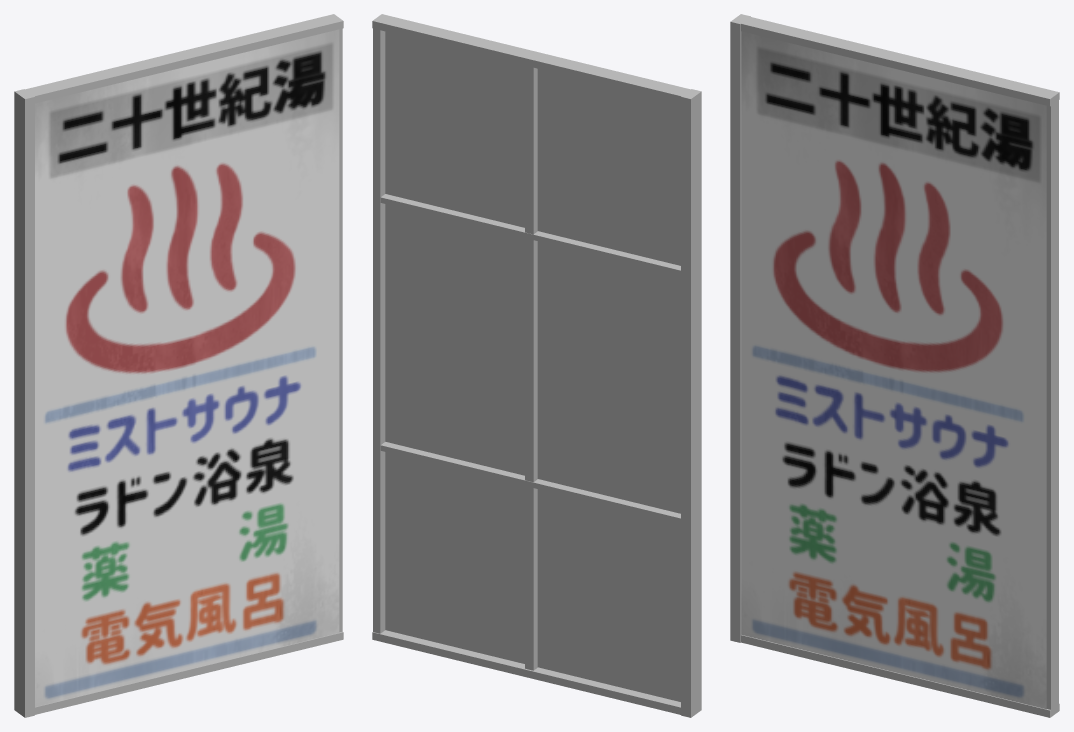
File: signboard_3_07.fbx
3 views of the same model, side by side, from view 1: azimuth 30°, elevation 25°; view 2: azimuth 150°, elevation 25°; view 3: azimuth 330°, elevation 25° (orthographic).
Parts seen in each view (by area): view 1: signboard_3_07; view 2: signboard_3_07; view 3: signboard_3_07.
Boxes of the visible parts, bbox=[...] form: signboard_3_07: bbox=[14, 14, 343, 717]; signboard_3_07: bbox=[372, 14, 701, 717]; signboard_3_07: bbox=[730, 14, 1059, 717].
Size of the model in its own units: 0.8341 by 1.55 by 0.0482.
